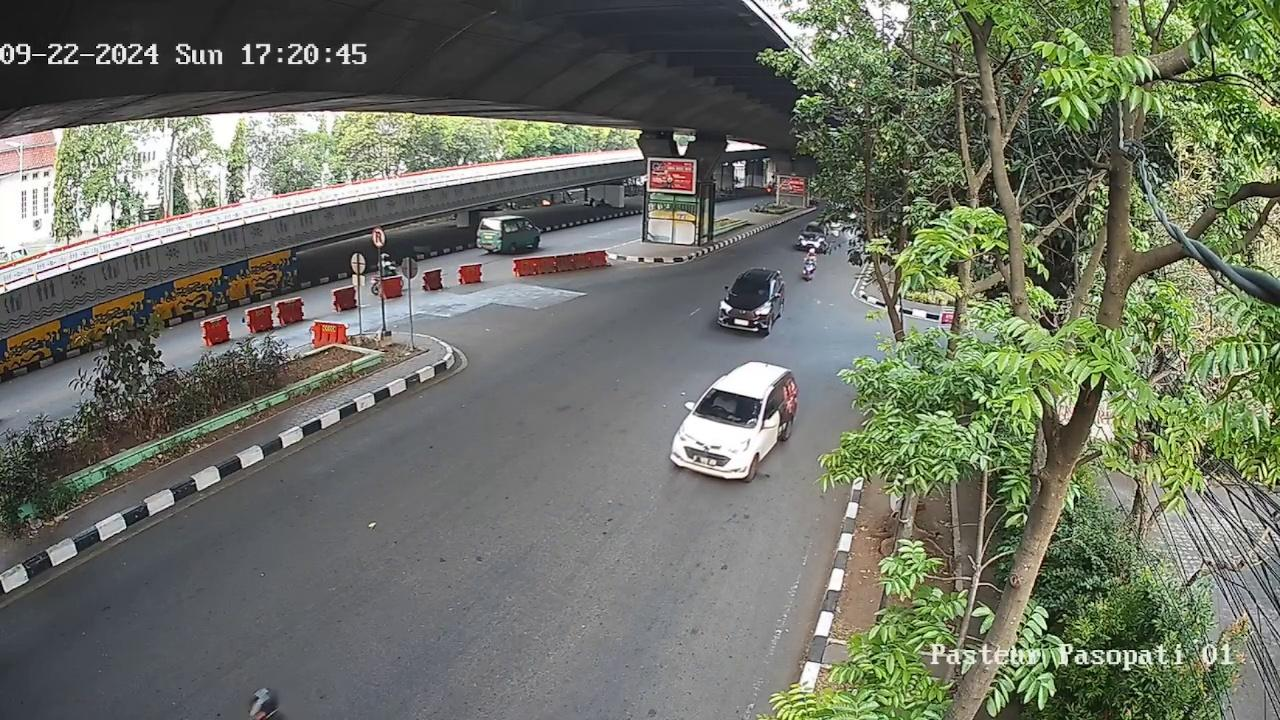tidak-pakai: (708, 394, 737, 419)
windshield: (693, 388, 764, 432), (732, 280, 770, 302)
